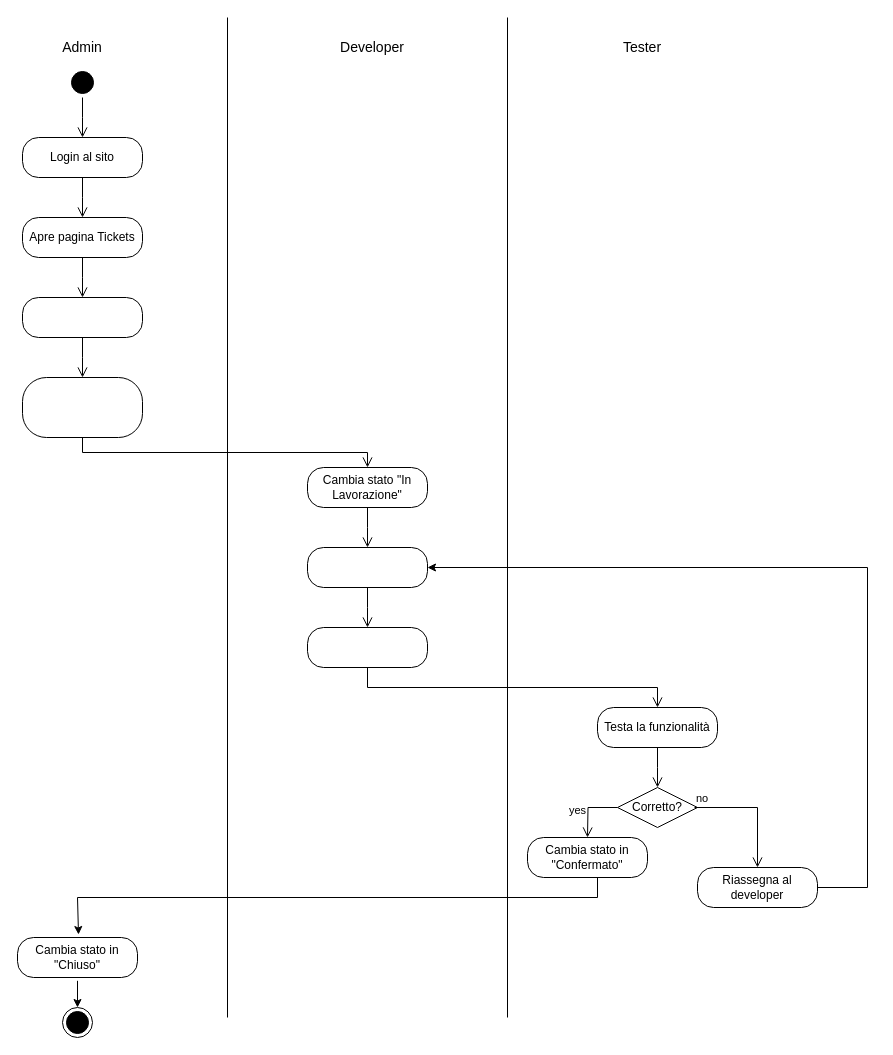
The diagram is 893 pixels wide and 1055 high, and some of its shapes have lost their labels. The shapes that lost their labels are listed below. From the top down, each one's centre as x and y in pixels, then its label:
[82,317]: Apre un nuovo Ticket Feature
[82,407]: Assegna ticket allo sviluppatore con stato ''Aperto"
[367,567]: Lavora al Ticket
[367,647]: Cambia stato in "In Revisione"
